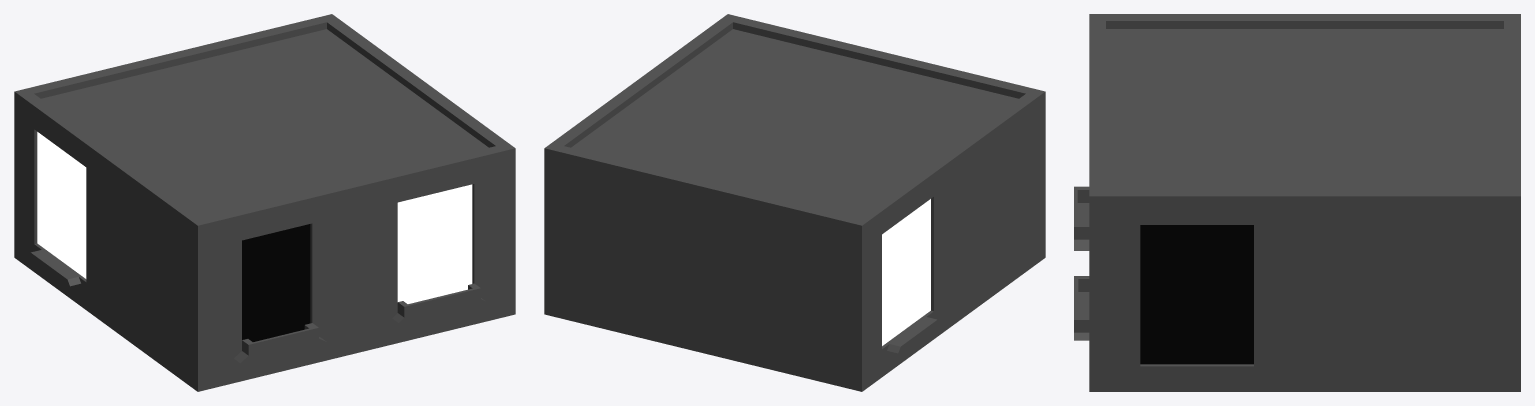
File: Immeuble1Haut3.fbx
The picture shows the model from 3 angles, left to right: view 1: azimuth 30°, elevation 25°; view 2: azimuth 150°, elevation 25°; view 3: azimuth 270°, elevation 25°; orthographic projection. The views are drawn at different scales.
Visible parts, largest first — view 1: Cube.152; view 2: Cube.152; view 3: Cube.152.
Part boxes in pixels (<box>): Cube.152: <box>14,14,515,391</box>; Cube.152: <box>544,14,1045,391</box>; Cube.152: <box>1074,14,1520,391</box>.
Bounding box in the file's own units: 2071 × 1000 × 2071.
